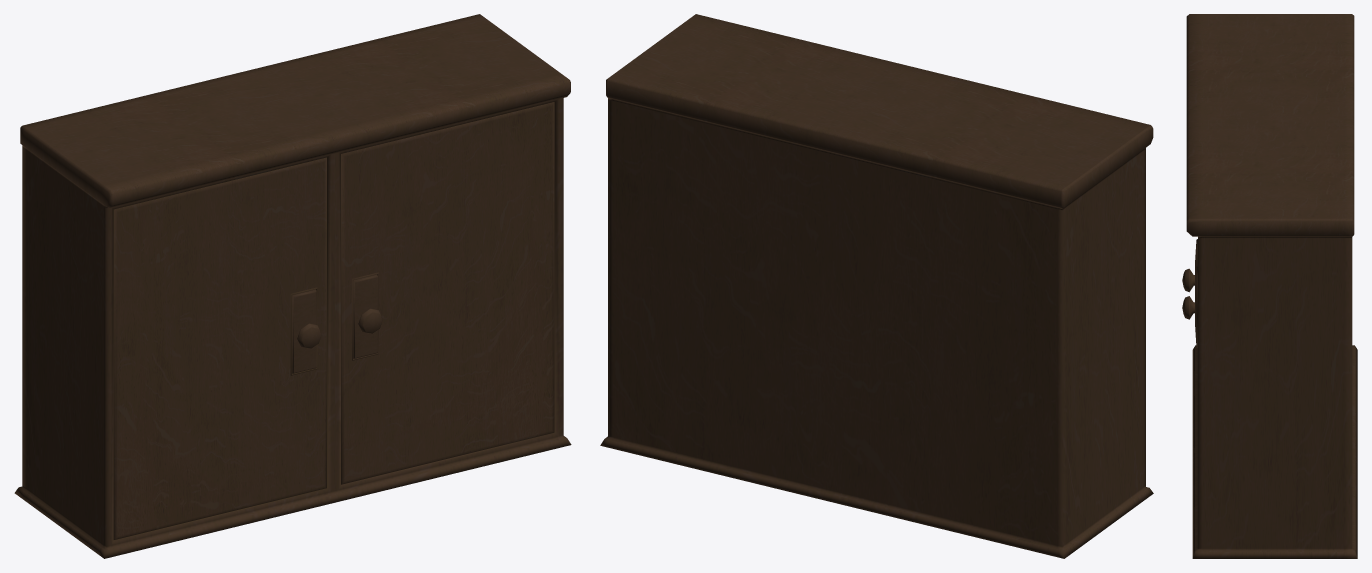
The model's file is wall_cabinet_alt.glb.
The picture shows the model from 3 angles, left to right: view 1: azimuth 30°, elevation 25°; view 2: azimuth 150°, elevation 25°; view 3: azimuth 270°, elevation 25°; orthographic projection. The views are drawn at different scales.
Visible parts, largest first — view 1: WallCabinetAlt; view 2: WallCabinetAlt; view 3: WallCabinetAlt.
Part boxes in pixels (box(x1,y1,x2,y2)): WallCabinetAlt: box(14, 14, 571, 558); WallCabinetAlt: box(600, 14, 1153, 558); WallCabinetAlt: box(1182, 14, 1357, 558).
Bounding box in the file's own units: 0.965 × 0.7272 × 0.3421.
Materials: 2 (2 with a texture image).
